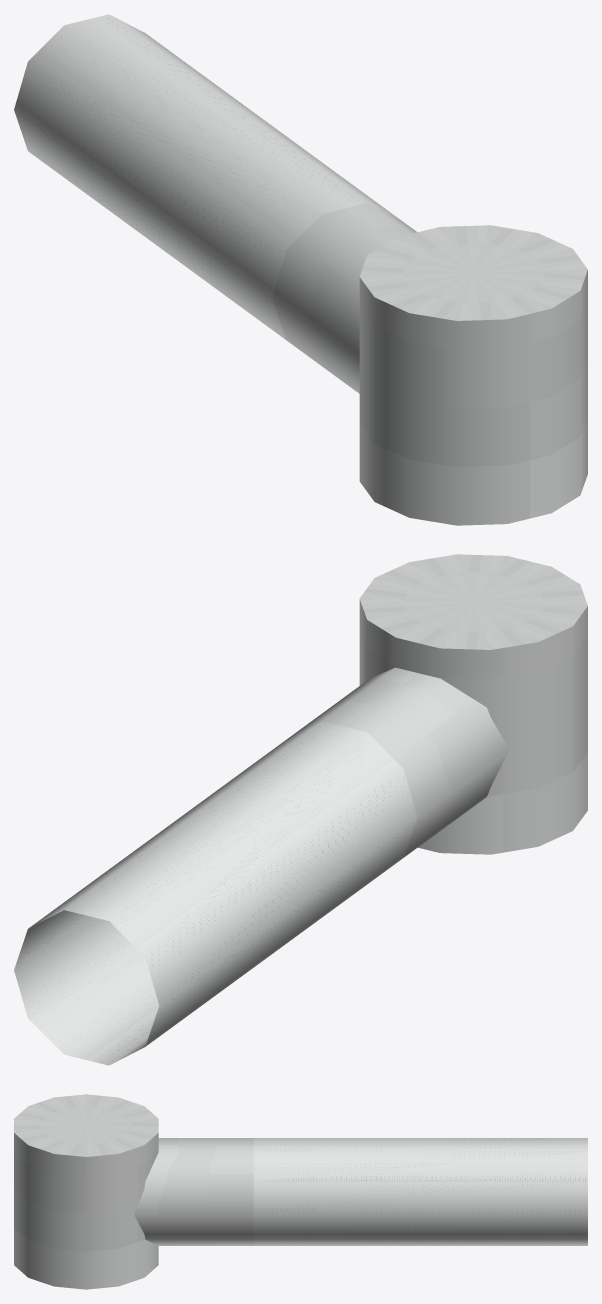
Rendered from trusssignalarm_level12_c0_pedestal.obj.
The picture shows the model from 3 angles, top to bottom: view 1: azimuth 30°, elevation 25°; view 2: azimuth 150°, elevation 25°; view 3: azimuth 270°, elevation 25°; orthographic projection. The views are drawn at different scales.
Parts seen in each view (by area): view 1: trusssignalarm_level12_c0_pedestal; view 2: trusssignalarm_level12_c0_pedestal; view 3: trusssignalarm_level12_c0_pedestal.
Boxes of the visible parts, <box> form: trusssignalarm_level12_c0_pedestal: <box>14,14,587,525</box>; trusssignalarm_level12_c0_pedestal: <box>14,554,587,1065</box>; trusssignalarm_level12_c0_pedestal: <box>14,1094,587,1289</box>.
Bounding box in the file's own units: 0.4438 × 0.4375 × 1.72.
